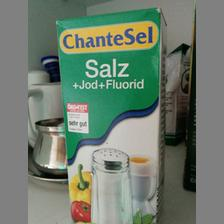Gewuerze: (54, 5, 166, 222)
